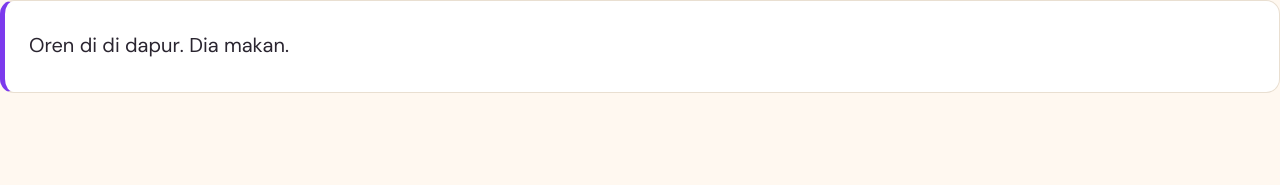
Test: TeksKlik › klik gagal tersambung memberi pesan ramah, tidak diam
Click the button "Oren". click: {"x": 52, "y": 46}
box: [29,25,74,68]
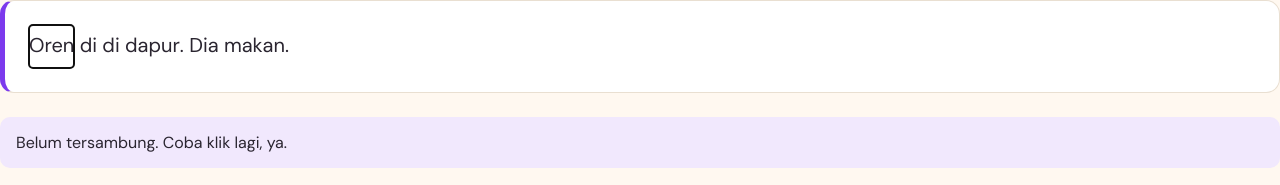
Expected: the message shows "Belum tersambung", [16,132,287,153]
